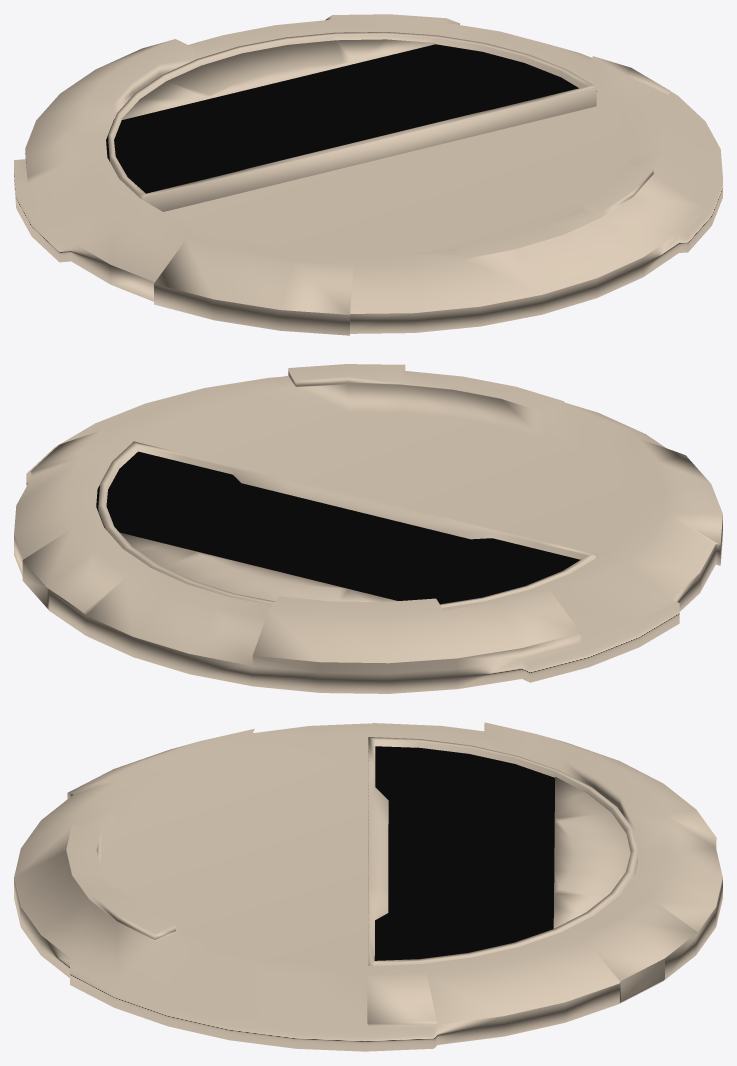
Rendered from Keypad base.glb.
The picture shows the model from 3 angles, top to bottom: view 1: azimuth 30°, elevation 25°; view 2: azimuth 150°, elevation 25°; view 3: azimuth 270°, elevation 25°; orthographic projection. The views are drawn at different scales.
Parts seen in each view (by area): view 1: keypad base, Plane, Keypad screen; view 2: keypad base, Plane, Keypad screen; view 3: keypad base, Plane, Keypad screen.
Part boxes in pixels (x1,y1,x2,y2): keypad base: (14,14,722,335); Plane: (106,44,596,193); Keypad screen: (108,32,596,211); keypad base: (14,364,722,693); Plane: (96,451,580,604); Keypad screen: (98,441,597,607); keypad base: (14,722,722,1051); Plane: (374,746,554,960); Keypad screen: (368,737,637,965).
Bounding box in the file's own units: 1.42 × 0.1239 × 1.38.
